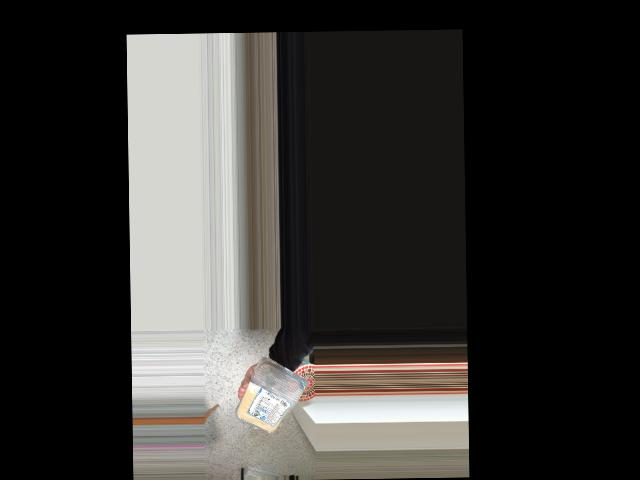cheese: (242, 361, 307, 438)
